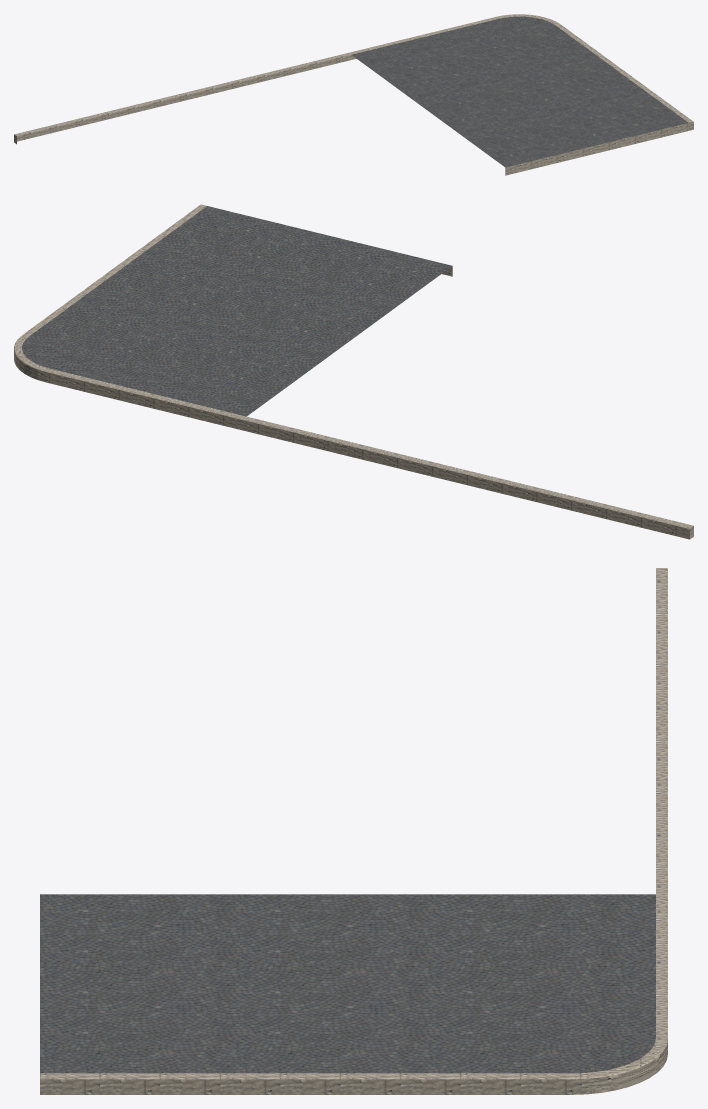
Rendered from SM_Pav_AngoloMolo.fbx.
The picture shows the model from 3 angles, top to bottom: view 1: azimuth 30°, elevation 25°; view 2: azimuth 150°, elevation 25°; view 3: azimuth 270°, elevation 25°; orthographic projection. The views are drawn at different scales.
Parts seen in each view (by area): view 1: SM_Pav_AngoloMolo; view 2: SM_Pav_AngoloMolo; view 3: SM_Pav_AngoloMolo.
Part boxes in pixels (left/top/right/bottom): SM_Pav_AngoloMolo: left=14, top=14, right=693, bottom=175; SM_Pav_AngoloMolo: left=14, top=204, right=693, bottom=539; SM_Pav_AngoloMolo: left=40, top=568, right=667, bottom=1094.
Size of what is drawn, in the model's own units: 2010 by 1045 by 30.
2 materials, 2 textured.
